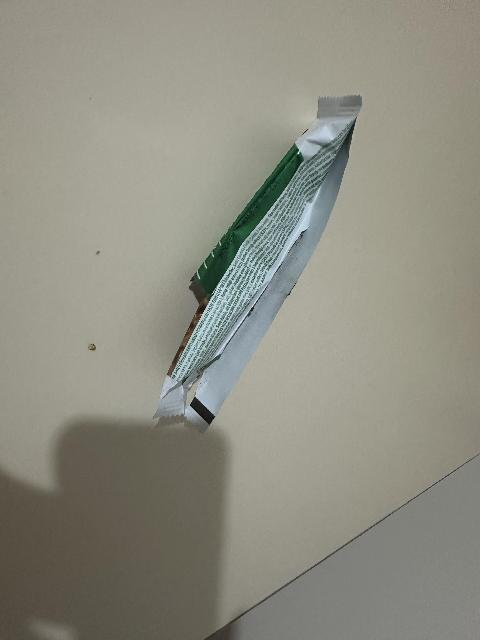Plastik: (149, 89, 381, 437)
